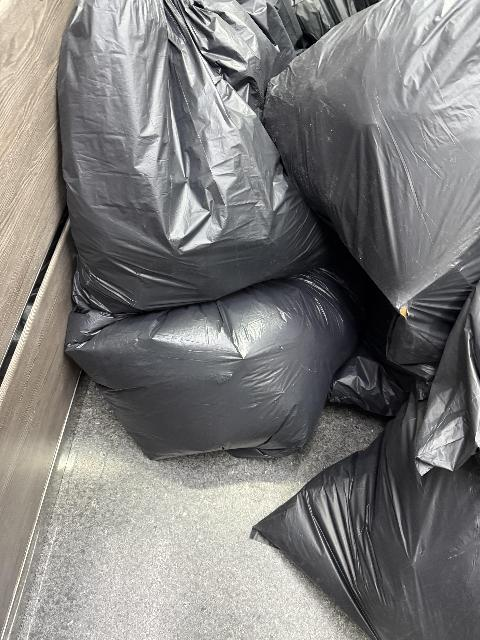Plastik: (73, 0, 308, 286), (306, 0, 480, 356), (246, 400, 480, 640), (95, 280, 333, 463)
